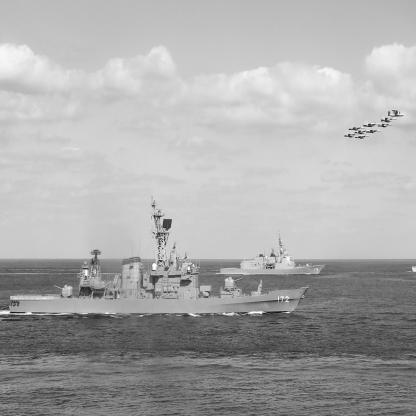E2: (389, 111, 405, 119)
F18: (382, 116, 399, 124), (364, 122, 382, 129), (349, 125, 367, 132), (379, 122, 395, 129), (367, 128, 383, 135), (345, 132, 361, 139), (355, 130, 372, 135), (355, 135, 371, 140)
